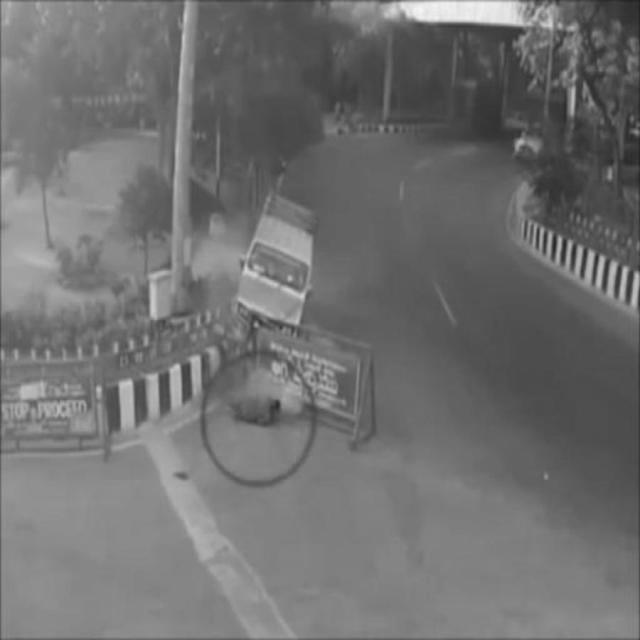accident: (231, 188, 319, 355)
person: (231, 379, 282, 433)
